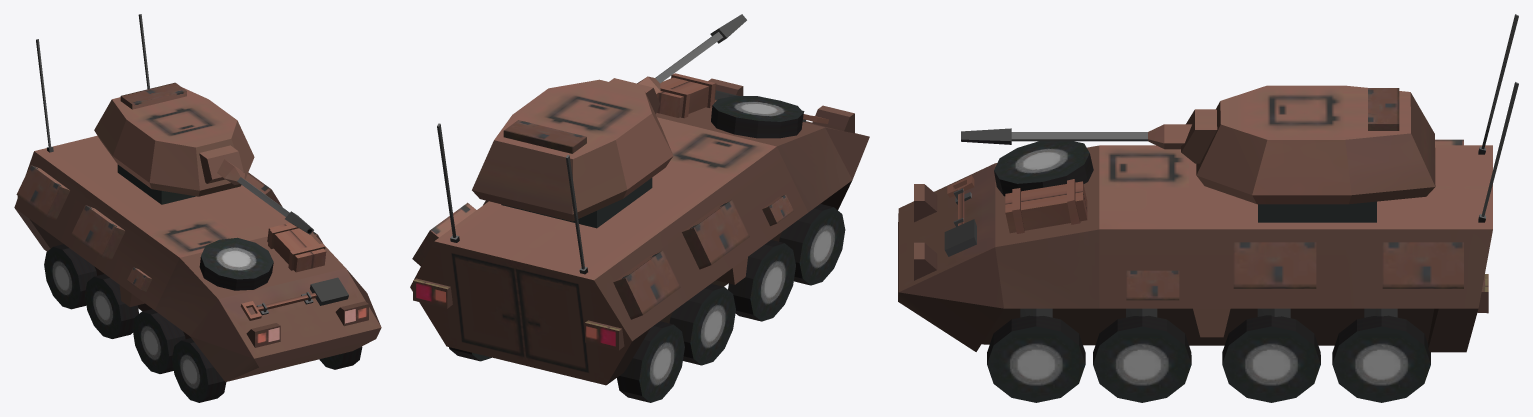
Rendered from tank04.FBX.
The picture shows the model from 3 angles, left to right: view 1: azimuth 30°, elevation 25°; view 2: azimuth 150°, elevation 25°; view 3: azimuth 270°, elevation 25°; orthographic projection. The views are drawn at different scales.
Visible parts, largest first — view 1: tank04; view 2: tank04; view 3: tank04.
Part boxes in pixels (left/top/right/bottom): tank04: left=14, top=14, right=381, bottom=402; tank04: left=410, top=14, right=869, bottom=402; tank04: left=898, top=14, right=1518, bottom=402.
Size of the model in its own units: 4.24 by 4.91 by 9.11.
